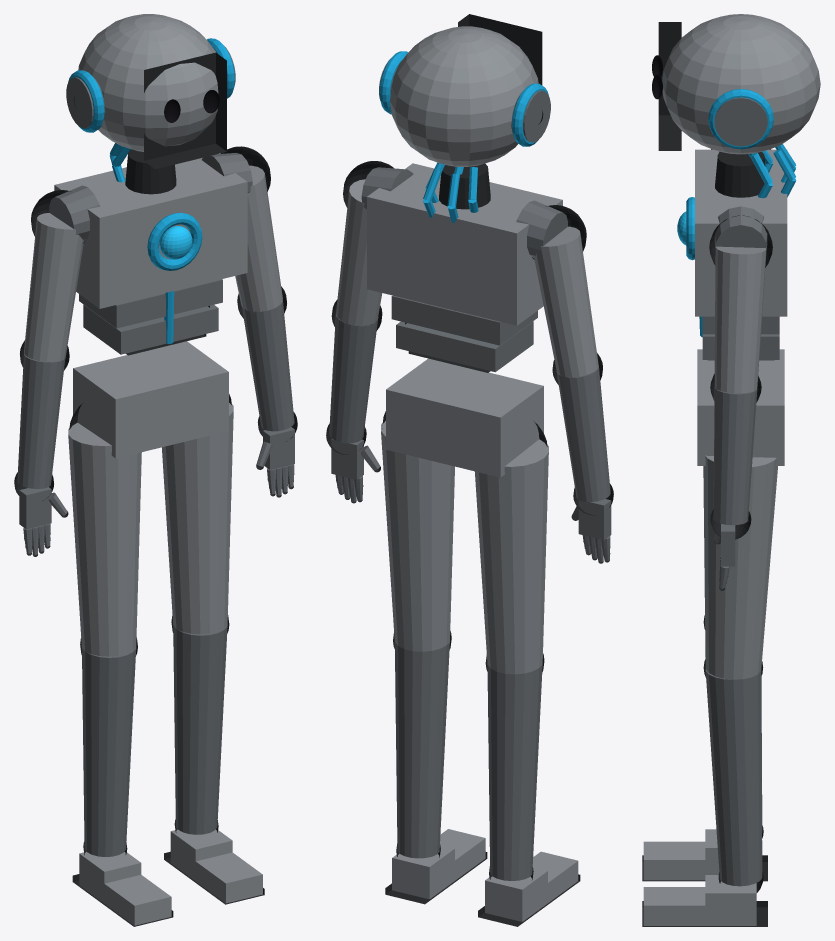
The model's file is unit07.obj.
The picture shows the model from 3 angles, left to right: view 1: azimuth 30°, elevation 25°; view 2: azimuth 150°, elevation 25°; view 3: azimuth 270°, elevation 25°; orthographic projection. The views are drawn at different scales.
Parts seen in each view (by area): view 1: Unit-07; view 2: Unit-07; view 3: Unit-07.
Boxes of the visible parts, left/top/right/bottom form: Unit-07: left=14, top=14, right=297, bottom=926; Unit-07: left=326, top=14, right=613, bottom=926; Unit-07: left=642, top=14, right=820, bottom=926.
Bounding box in the file's own units: 0.64 × 1.88 × 0.3475.
